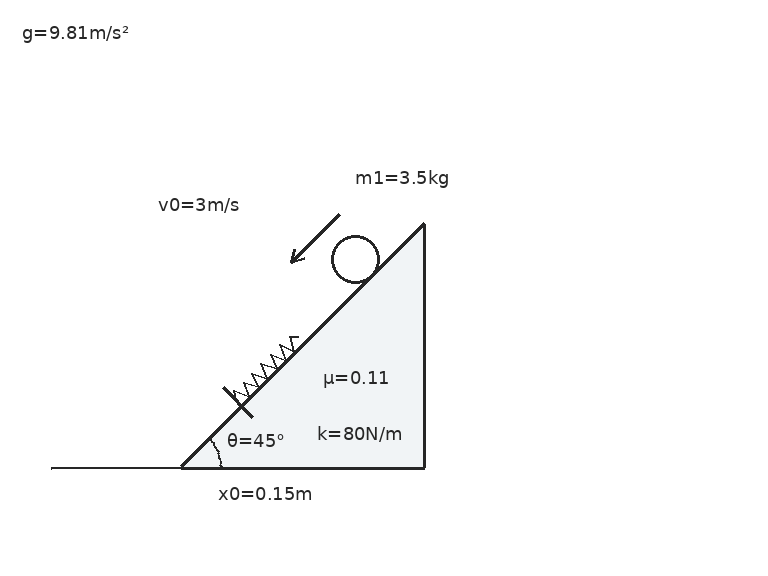ball: (329, 233, 381, 285)
ramp: (179, 222, 426, 469)
spring: (233, 334, 301, 402)
